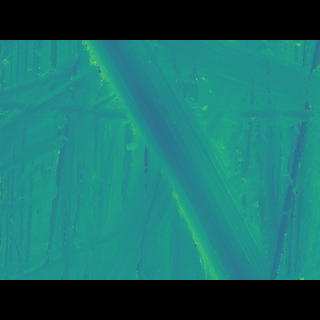Loch: (78, 69, 278, 250)
